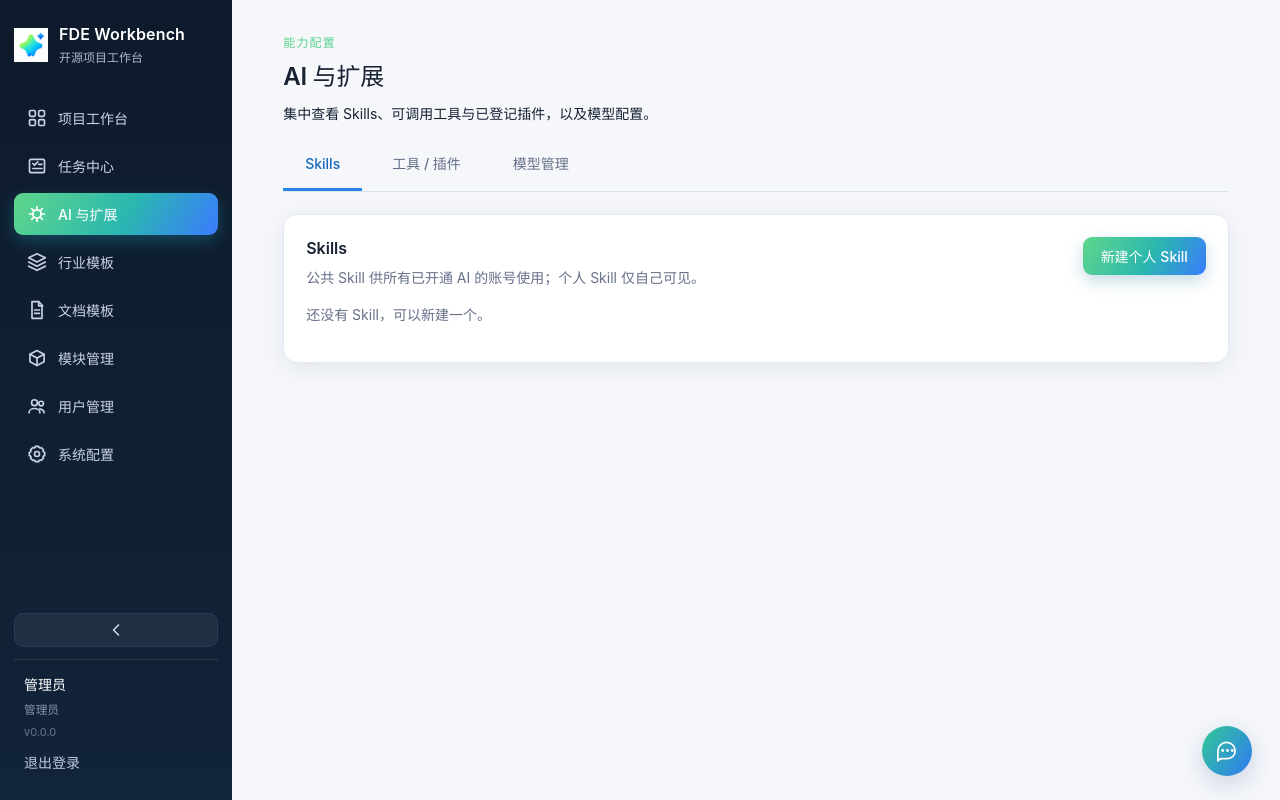
keeps API Key inside the model tab and saves a personal model
The width and height of the screenshot is (1280, 800).
Click the tab "模型管理" at [541, 165], box [491, 139, 591, 191]
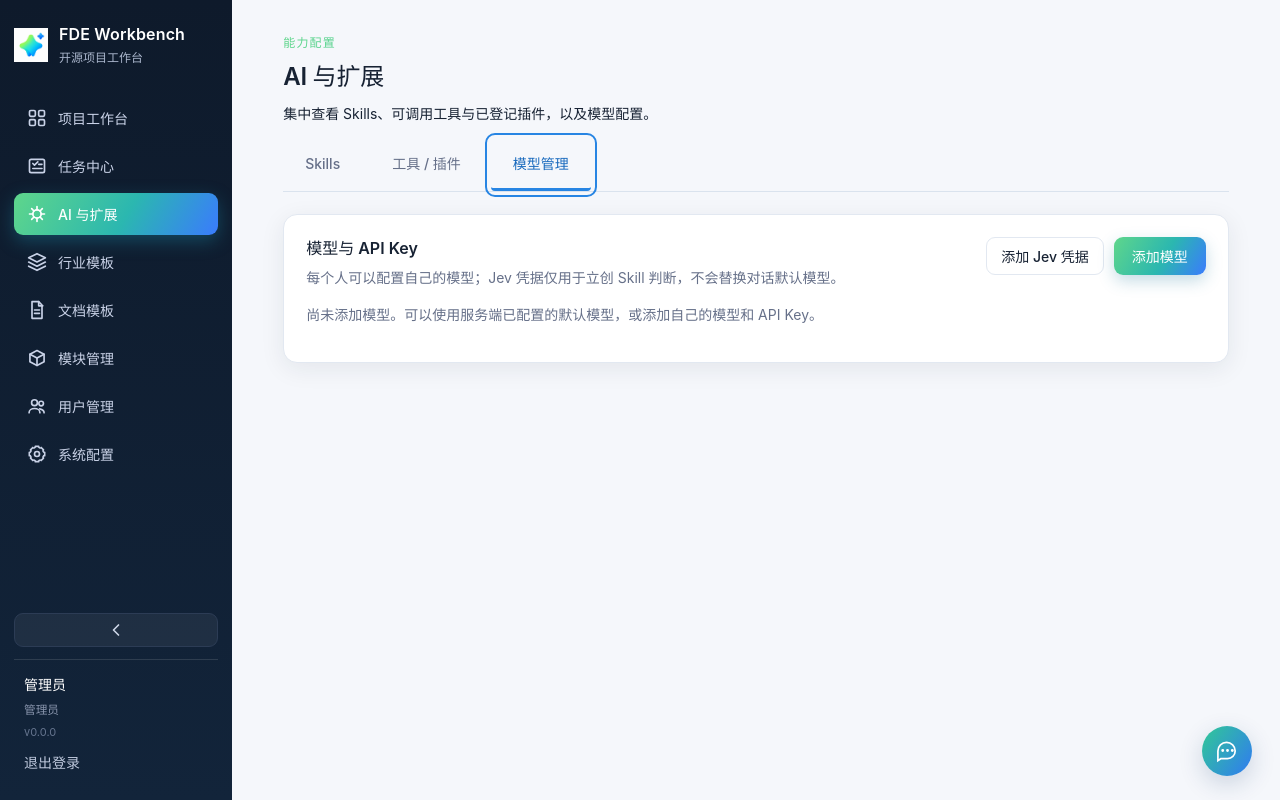
Click the button "添加模型" at [1160, 256], box [1114, 237, 1206, 275]
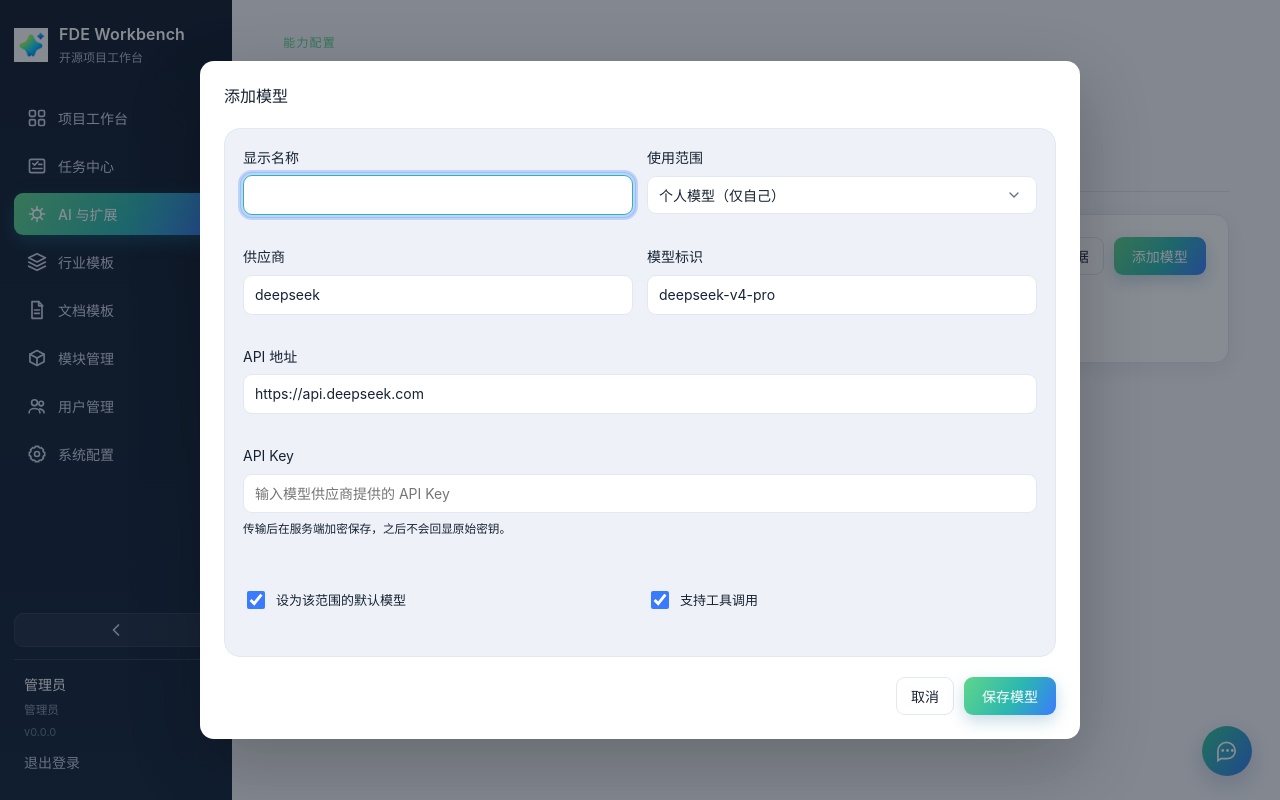
Type "自己的模型" into the field named "模型名称" at [438, 195], box [243, 176, 633, 215]
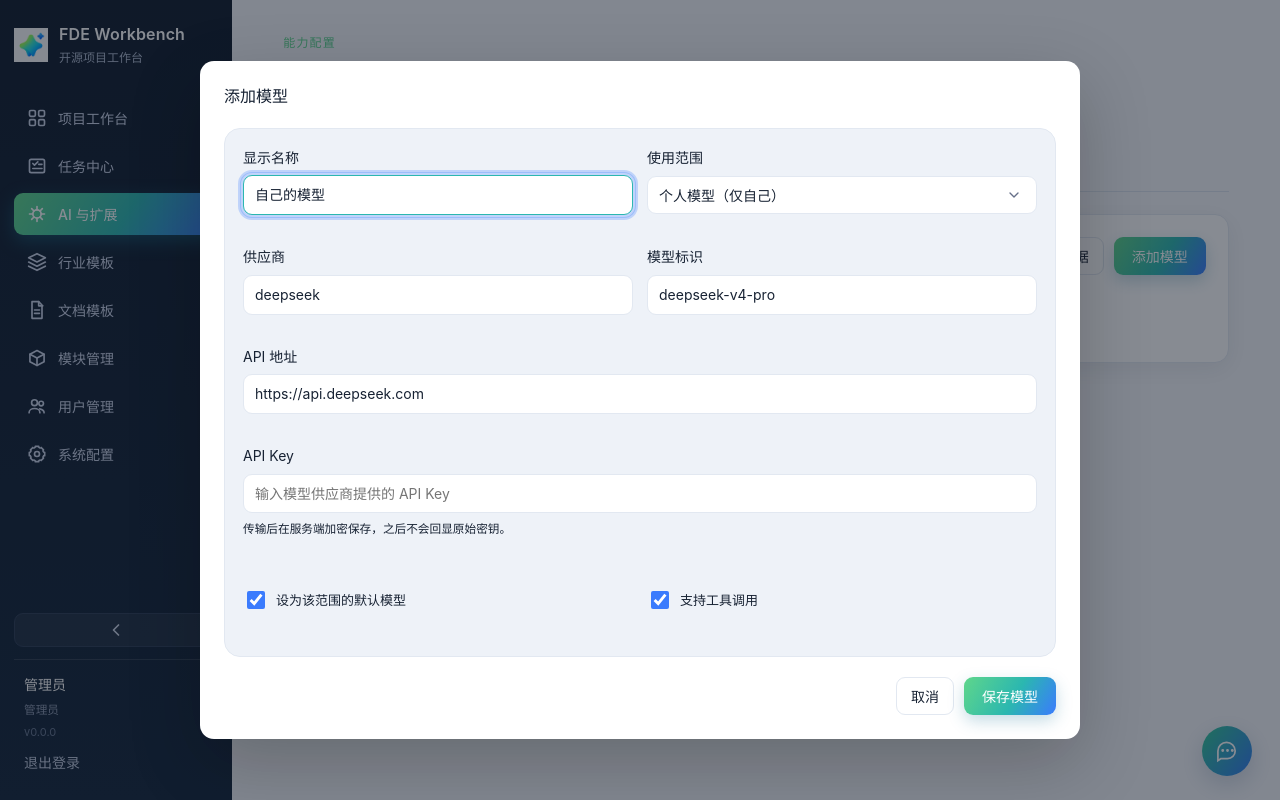
Type "sk-private" into the password field labelled "API Key" at [640, 493], box [243, 474, 1037, 513]
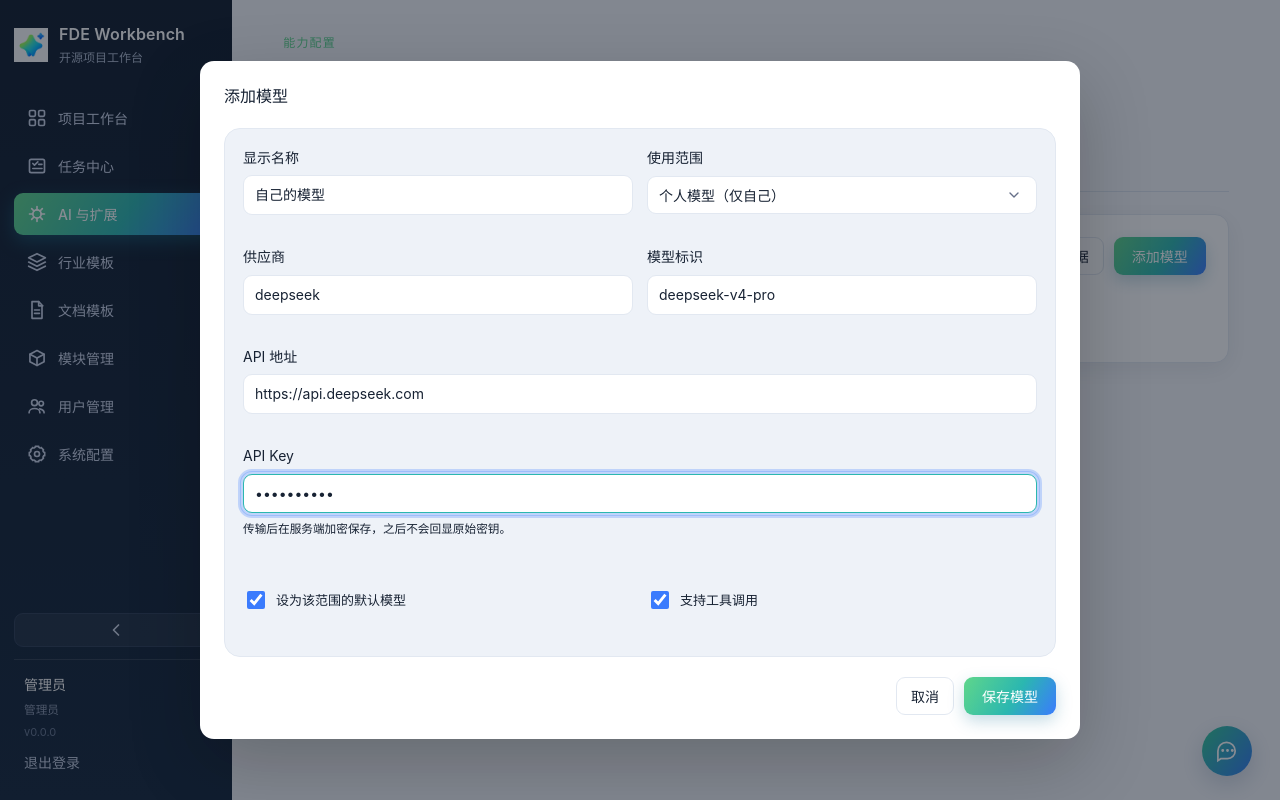
Click the button "保存模型" at [1010, 696], box [964, 677, 1056, 715]
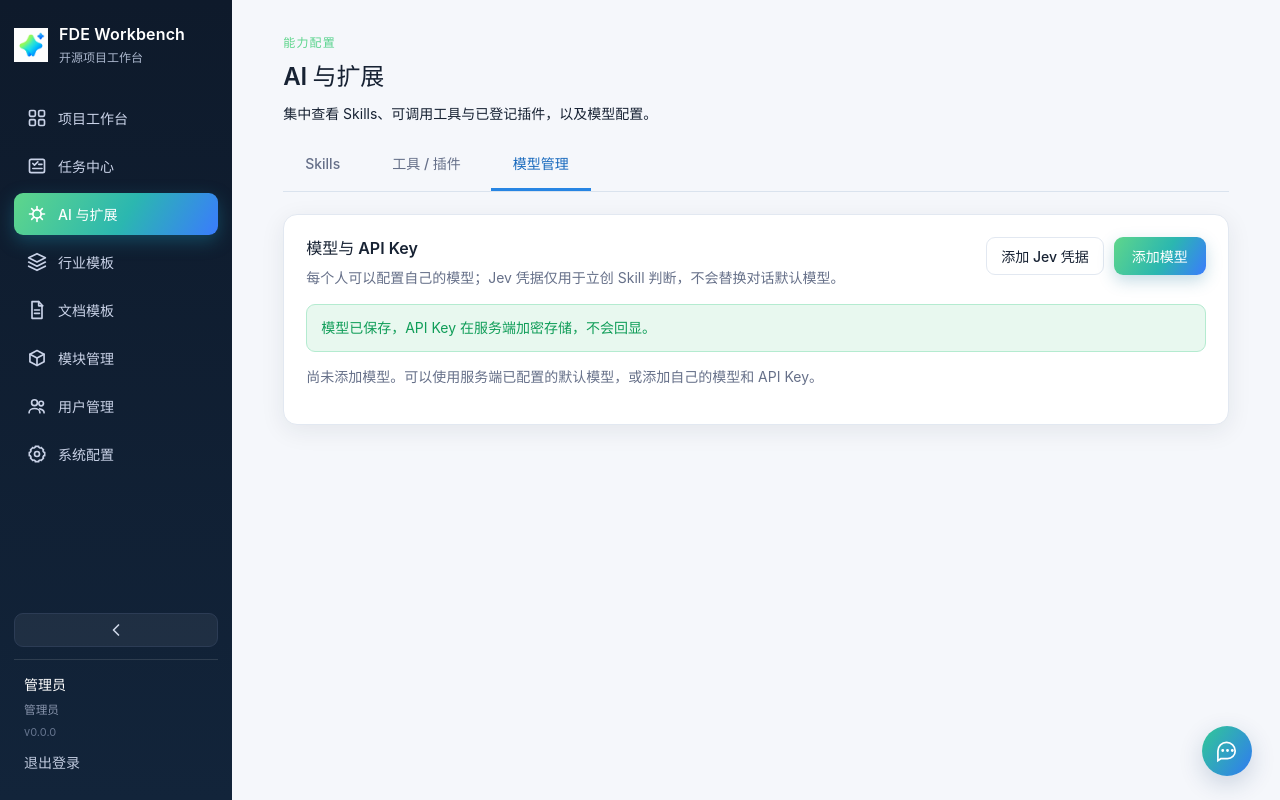
Check: the text "模型已保存，API Key 在服务端加密存储，不会回显。" is shown, box [306, 304, 1206, 352]
